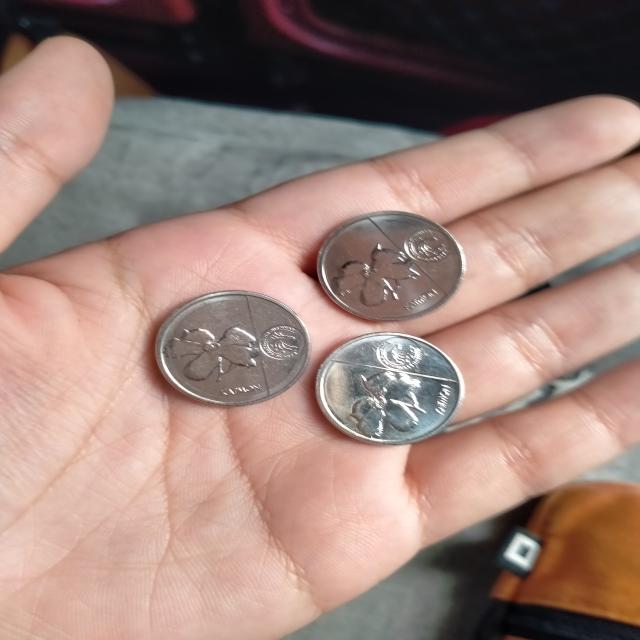25Cent_New_Back: (158, 318, 268, 390), (328, 242, 422, 310)
